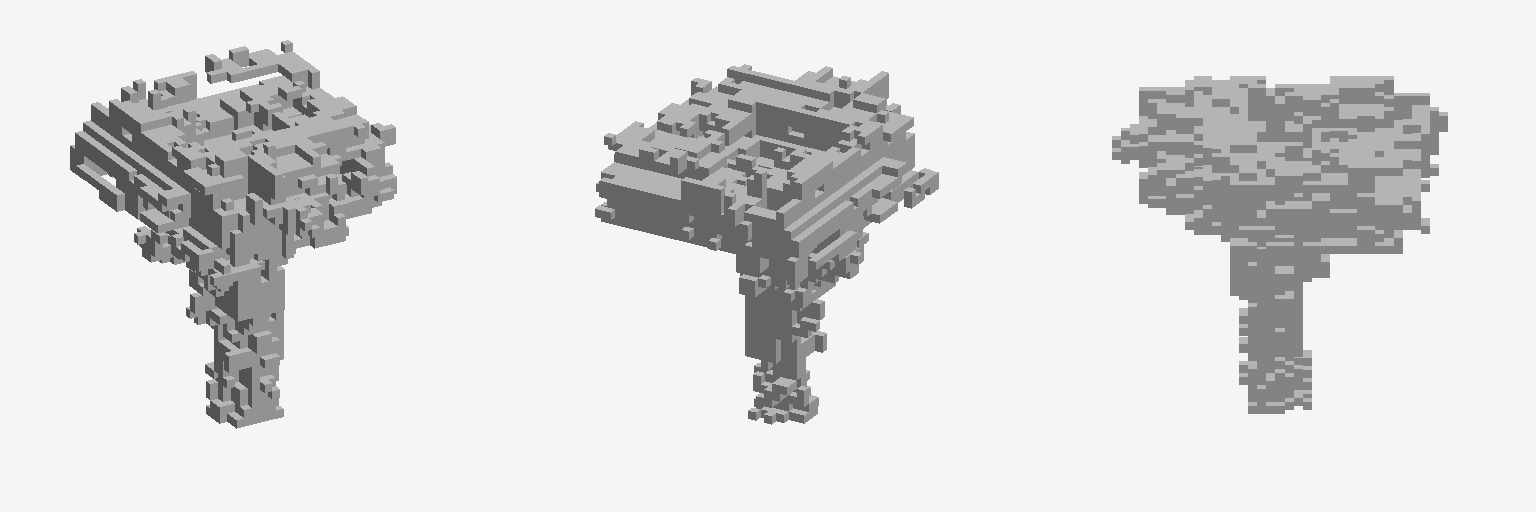
The model's file is tree2.obj.
The picture shows the model from 3 angles: view 1: azimuth 30°, elevation 25°; view 2: azimuth 150°, elevation 25°; view 3: azimuth 270°, elevation 25°; orthographic projection.
Bounding box in the file's own units: 29 × 37 × 37.